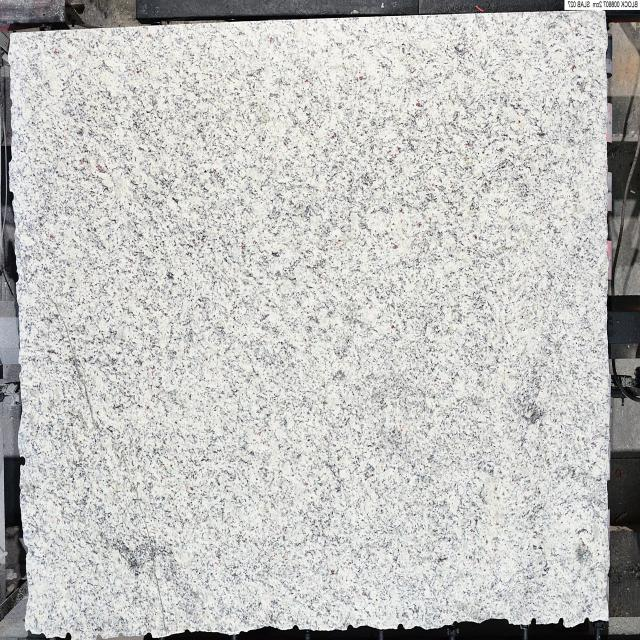chapa: (10, 14, 610, 638)
veio: (556, 615, 566, 629), (396, 620, 406, 634), (19, 452, 27, 468), (528, 616, 538, 628), (64, 628, 74, 640), (582, 616, 590, 626)
